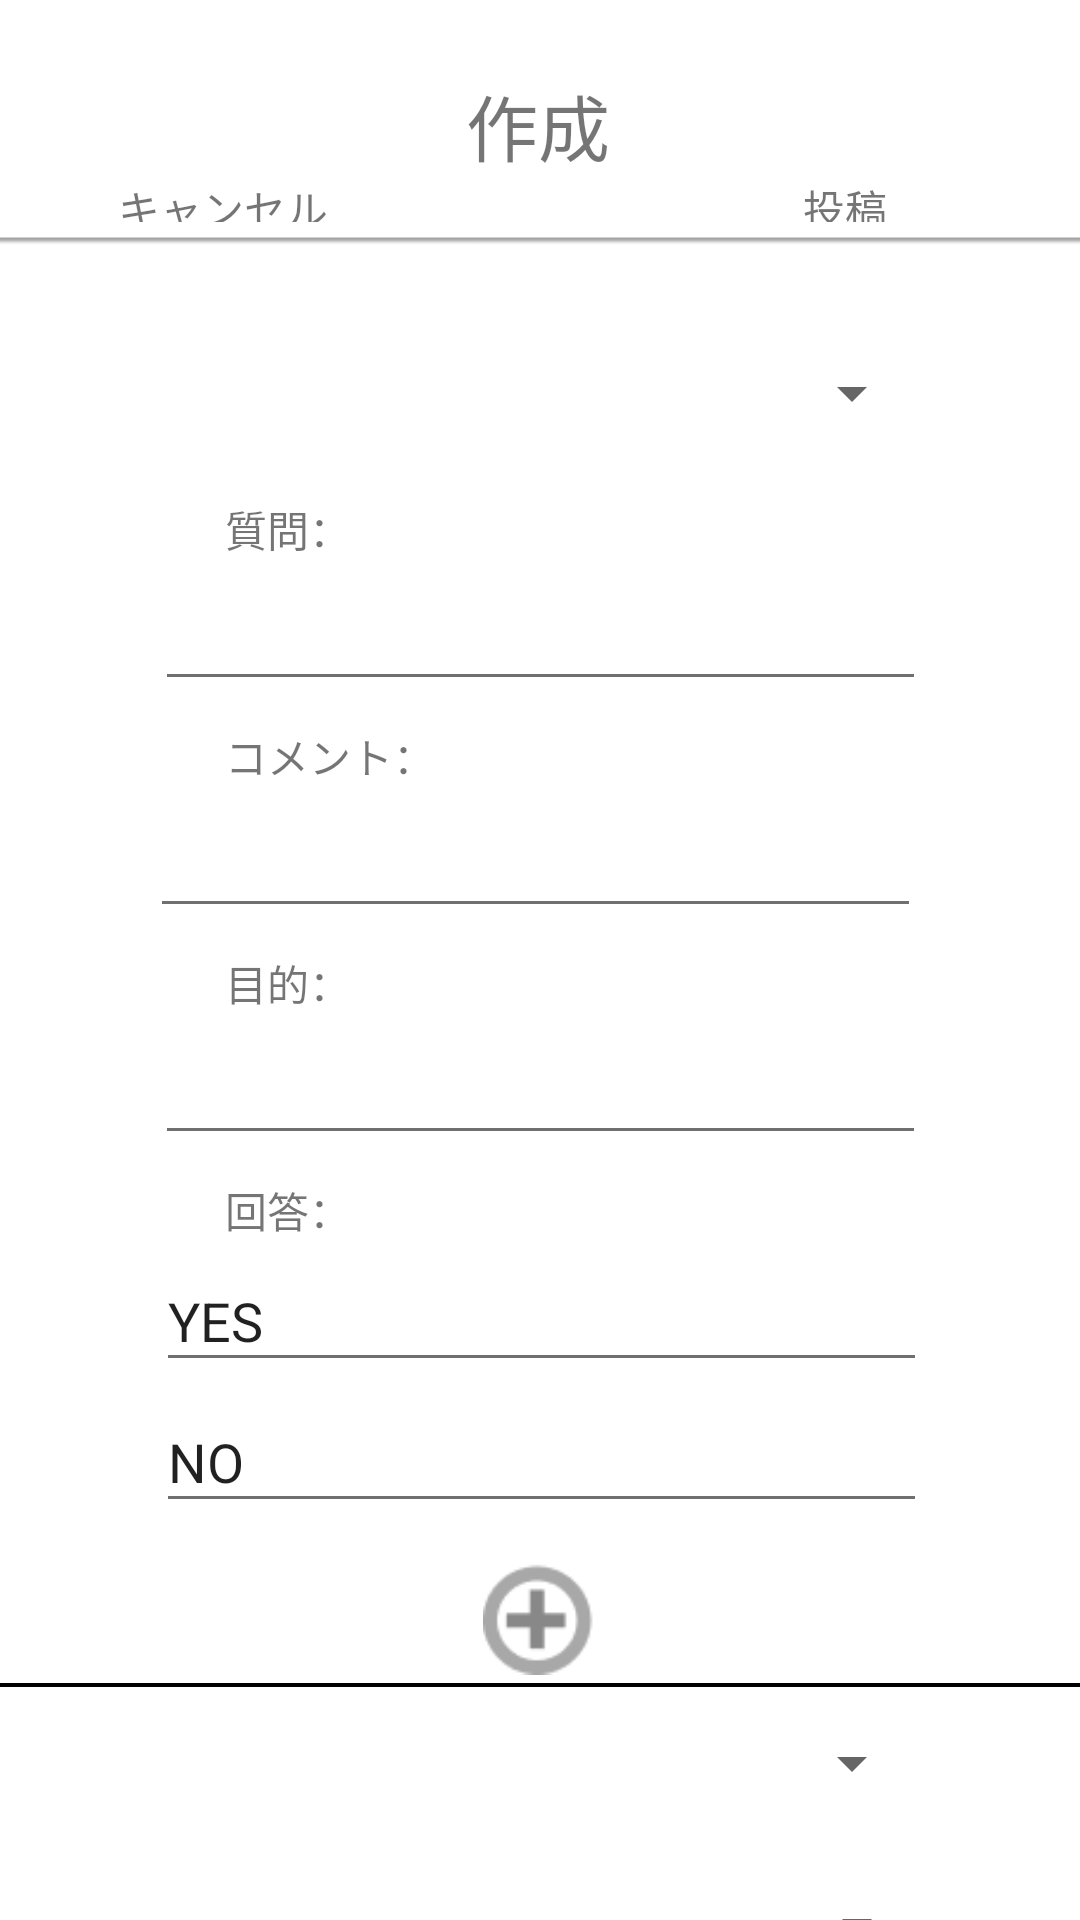

Point at icon controls on the screen. Image size 1080*1920, points as (x,y).
plus: (537,1620)
